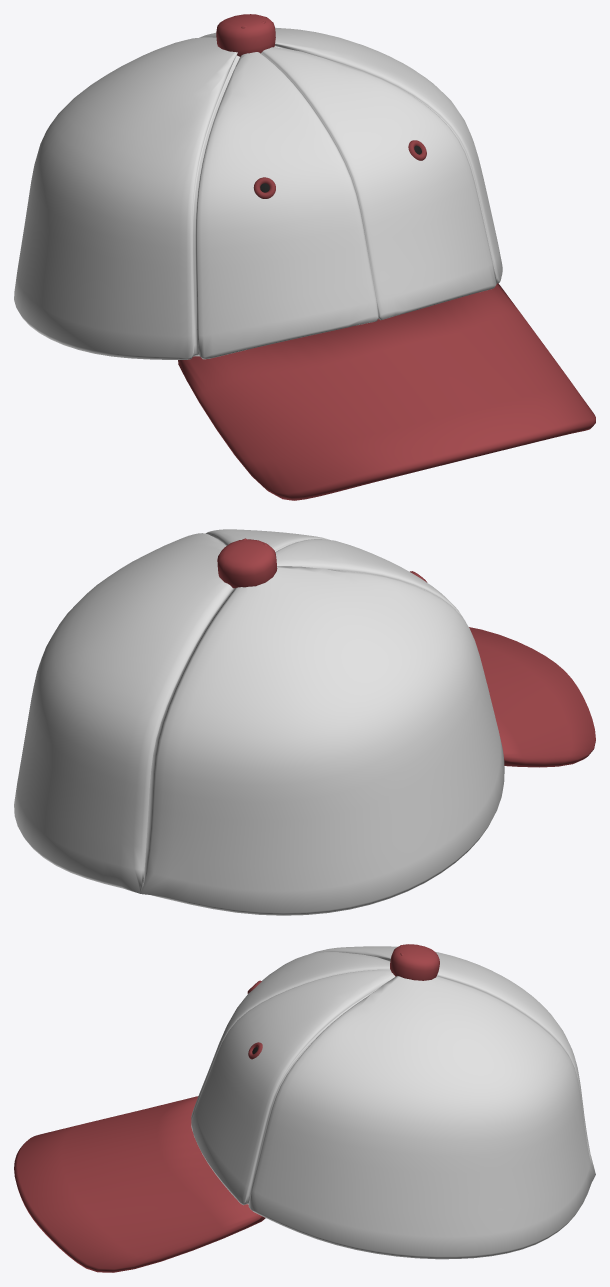
Rendered from Cap.fbx.
The picture shows the model from 3 angles, top to bottom: view 1: azimuth 30°, elevation 25°; view 2: azimuth 150°, elevation 25°; view 3: azimuth 270°, elevation 25°; orthographic projection. The views are drawn at different scales.
Parts seen in each view (by area): view 1: hat; view 2: hat; view 3: hat.
Part boxes in pixels (x1,y1,x2,y2): hat: (14, 14, 595, 500); hat: (14, 529, 595, 915); hat: (14, 944, 595, 1272).
Bounding box in the file's own units: 413 × 288 × 586.
